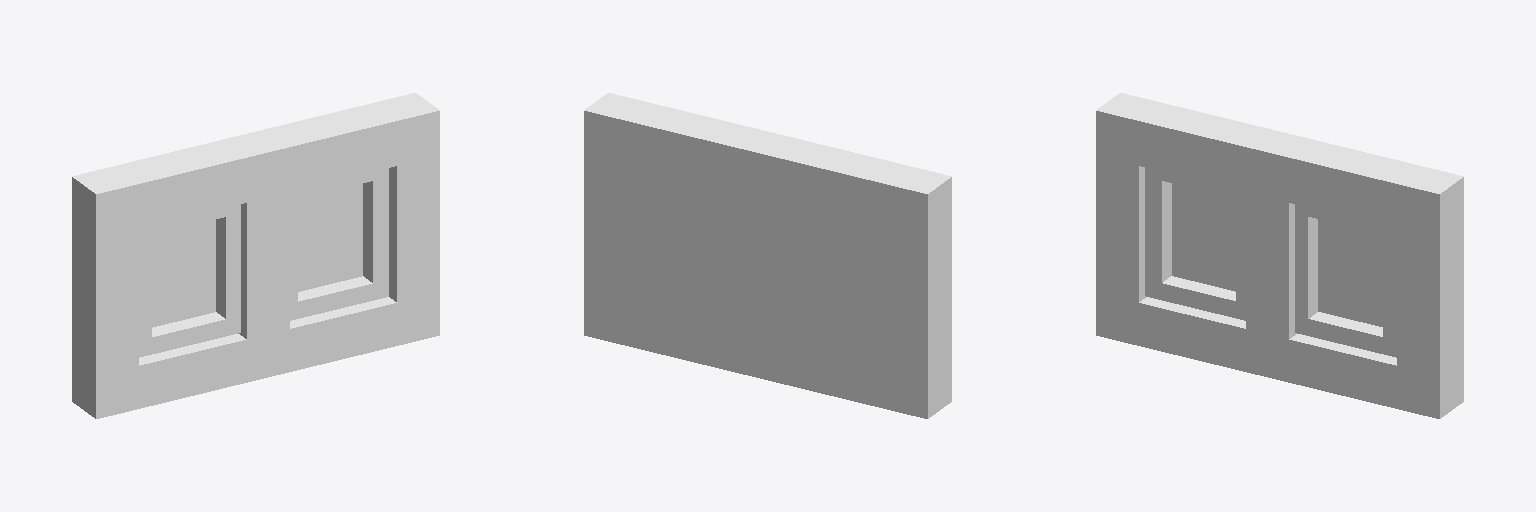
File: Windows_simple.obj
3 views of the same model, side by side, from view 1: azimuth 30°, elevation 25°; view 2: azimuth 150°, elevation 25°; view 3: azimuth 330°, elevation 25° (orthographic).
Visible parts, largest first — view 1: building-windows; view 2: building-windows; view 3: building-windows.
Boxes of the visible parts, <box> form: building-windows: <box>72,93,439,418</box>; building-windows: <box>584,93,951,418</box>; building-windows: <box>1096,93,1463,418</box>.
Bounding box in the file's own units: 1 × 0.625 × 0.1236.